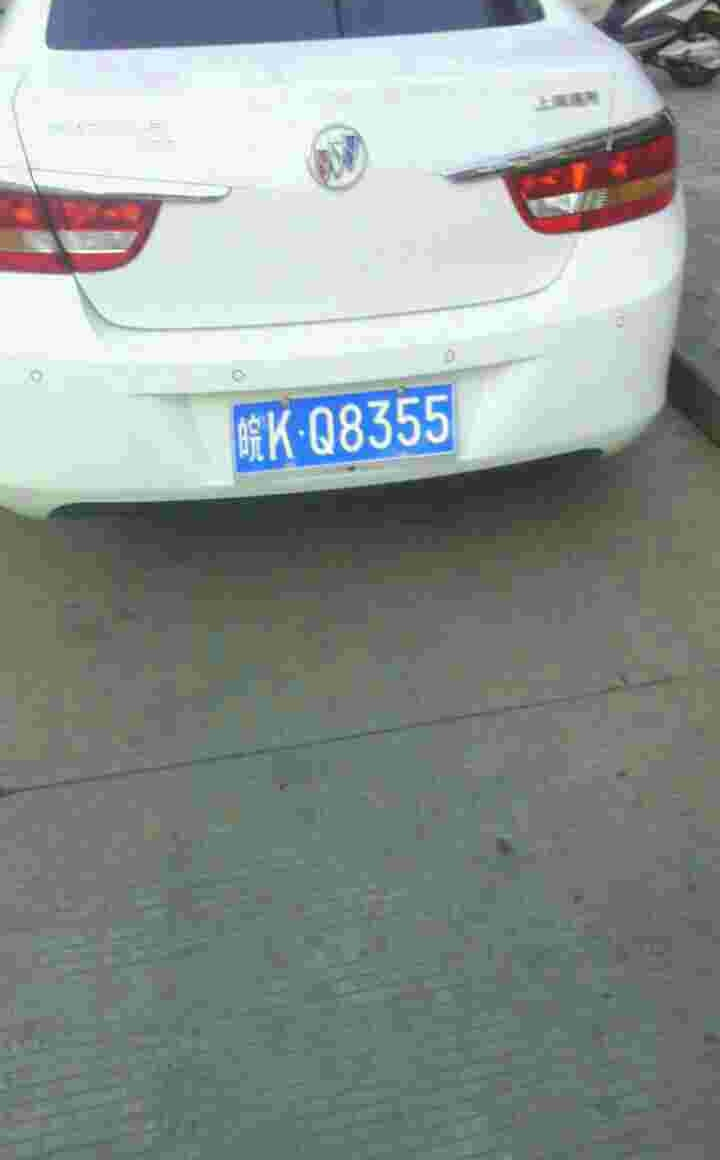license_plate: (241, 378, 455, 479)
